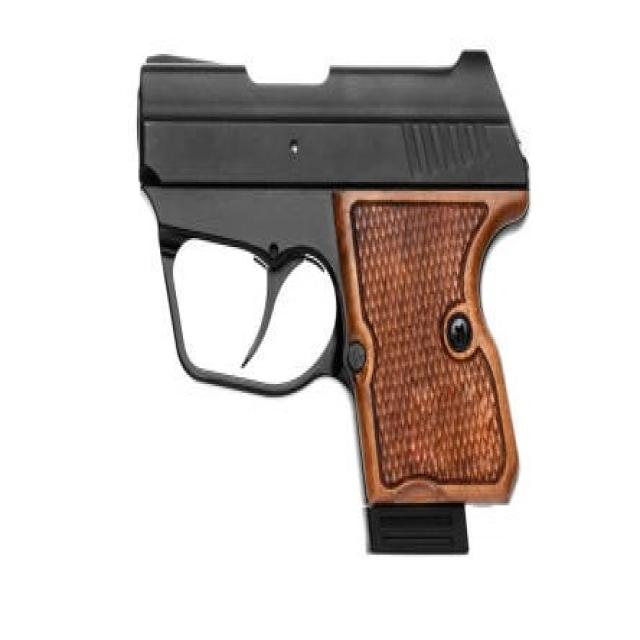pistol: (132, 38, 537, 569)
